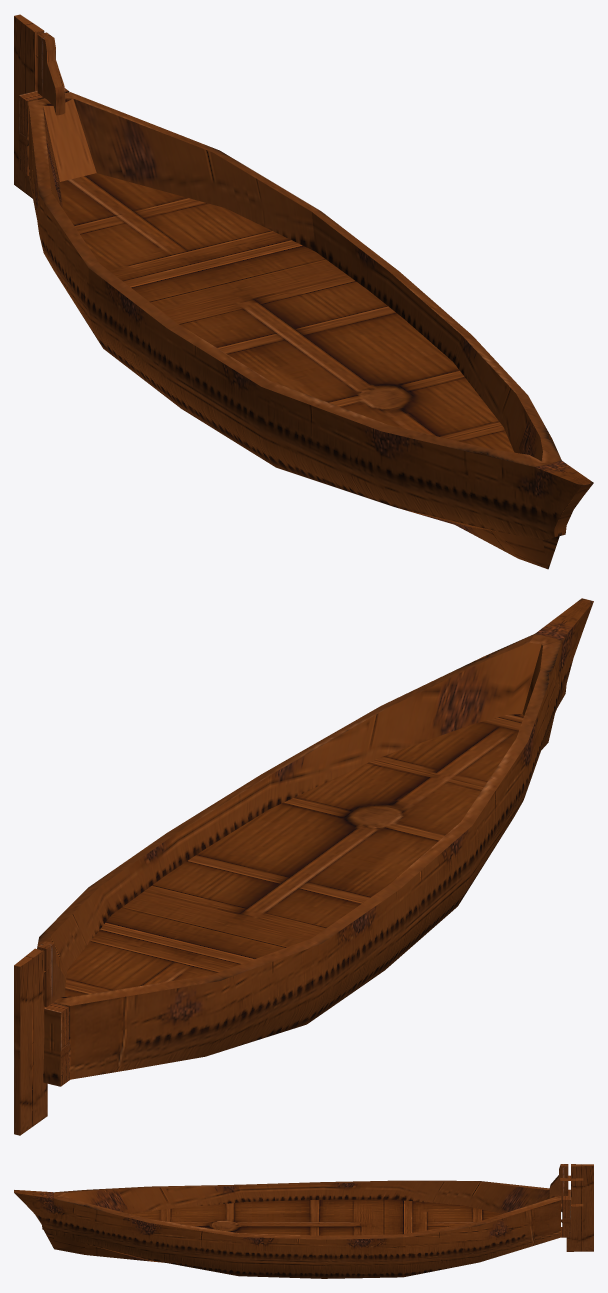
The model's file is ship_short.dae.
3 renders of one model, top to bottom at view 1: azimuth 30°, elevation 25°; view 2: azimuth 150°, elevation 25°; view 3: azimuth 270°, elevation 25°, orthographic. The views are drawn at different scales.
Visible parts, largest first — view 1: ship_macrob_fish; view 2: ship_macrob_fish; view 3: ship_macrob_fish.
Boxes of the visible parts, x1,y1,x2,y2 form: ship_macrob_fish: (14,14,593,569); ship_macrob_fish: (14,598,593,1135); ship_macrob_fish: (14,1164,593,1278).
Size of the model in its own units: 4.92 by 20.93 by 4.16.
